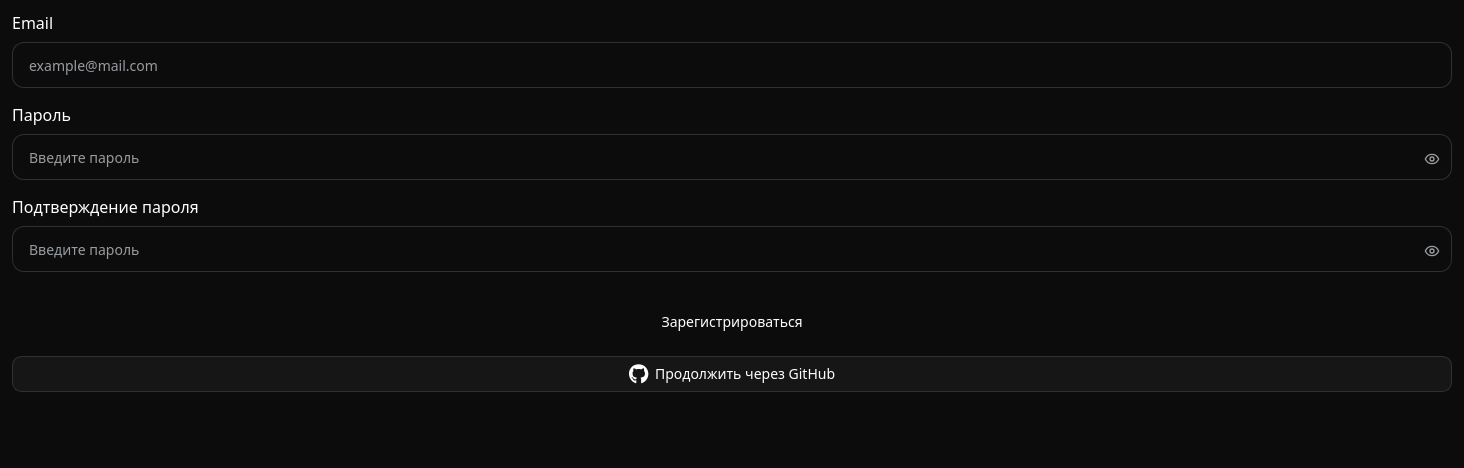
it: RegisterForm Integration Flow (T032) › error path: ошибка API (409 Conflict) в baseFetch пробрасывается в mutation и не сохраняет токен
Type "existing@example.com" into the field labelled "Email".
click(732, 65); type("existing@example.com")  # box x1=12 y1=42 x2=1452 y2=88
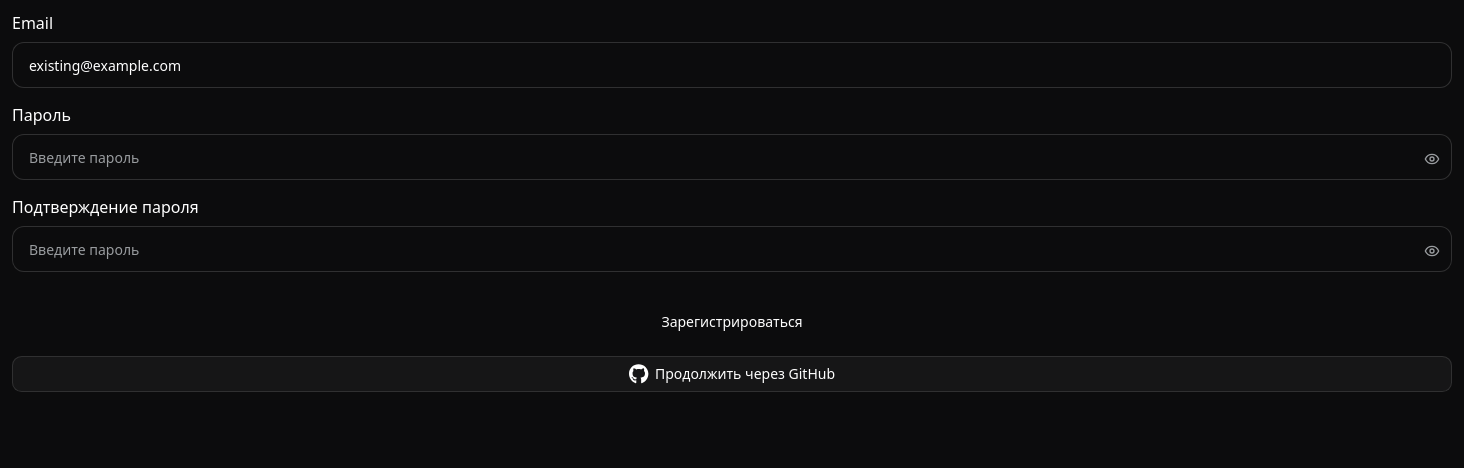
Type "StrongPassword123!" into the password field labelled "Пароль".
click(732, 157); type("StrongPassword123!")  # box x1=12 y1=134 x2=1452 y2=180
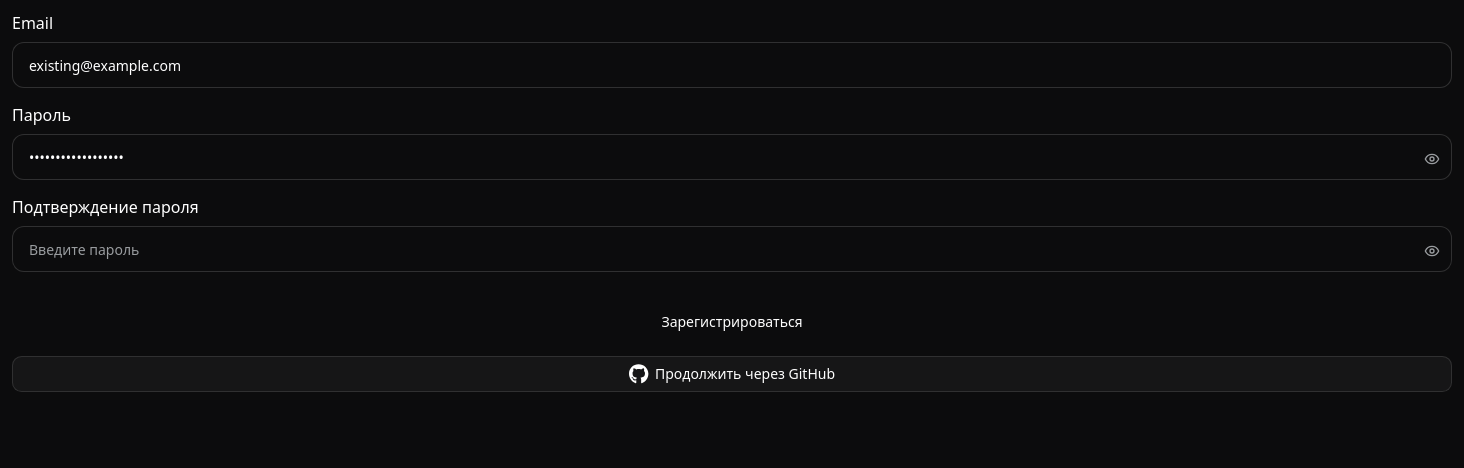
Type "StrongPassword123!" into the password field labelled "Подтверждение пароля".
click(732, 249); type("StrongPassword123!")  # box x1=12 y1=226 x2=1452 y2=272
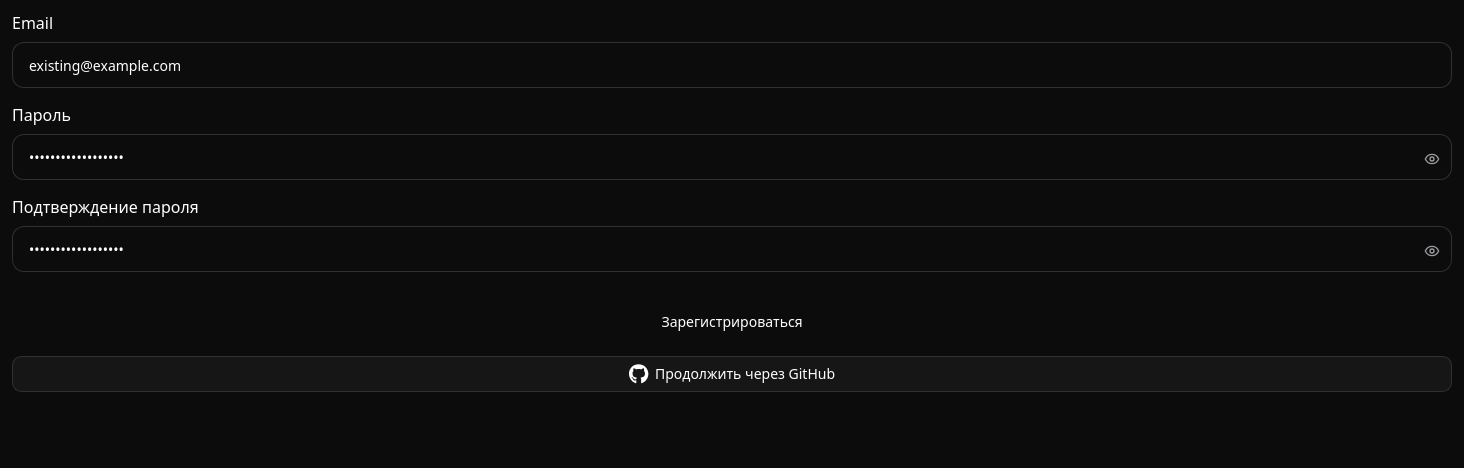
Click the button "Зарегистрироваться".
click(732, 322)  # box x1=12 y1=304 x2=1452 y2=340
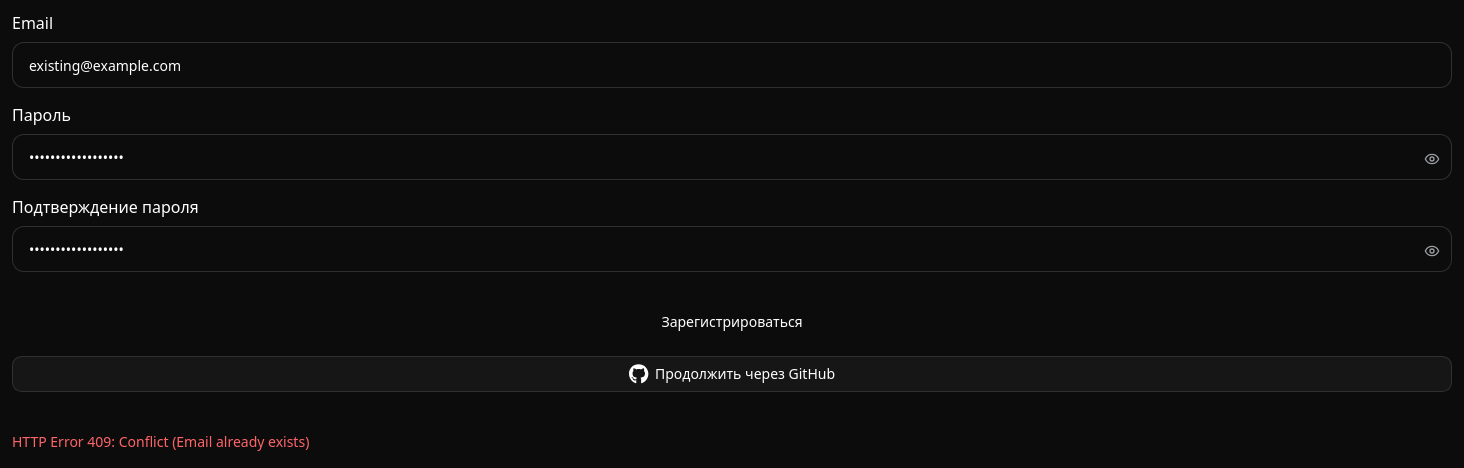
Check: the text "HTTP Error 409: Conflict (Email already exists)" is shown, box x1=12 y1=432 x2=309 y2=451
